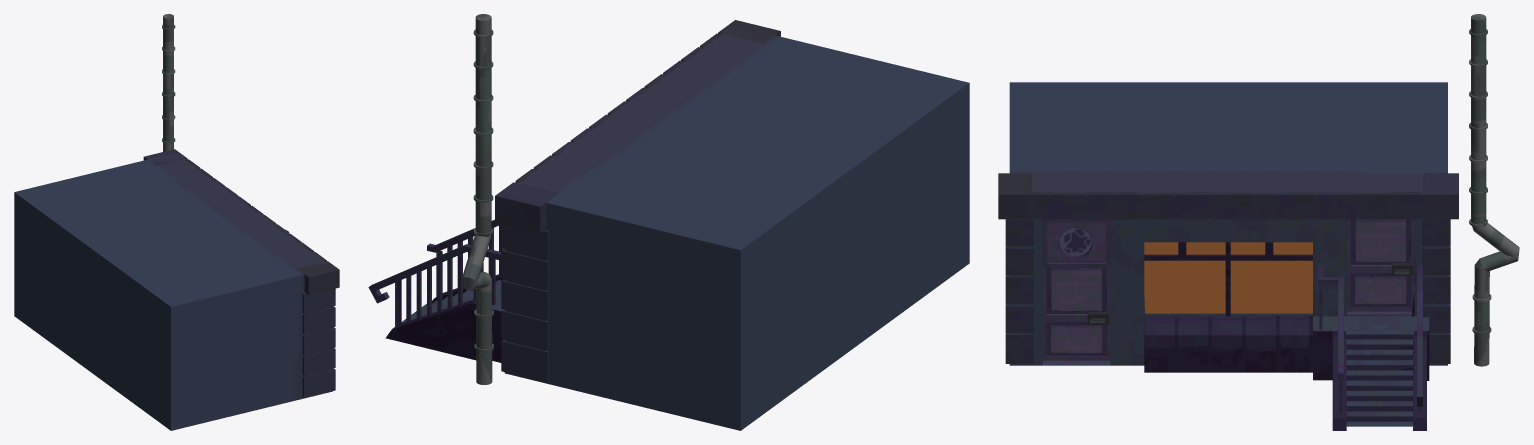
Rendered from Batiment1_rdc 1.fbx.
3 views of the same model, side by side, from view 1: azimuth 30°, elevation 25°; view 2: azimuth 150°, elevation 25°; view 3: azimuth 270°, elevation 25° (orthographic). The views are drawn at different scales.
Parts seen in each view (by area): view 1: Cube.016; view 2: Cube.016; view 3: Cube.016.
Boxes of the visible parts, x1,y1,x2,y2 form: Cube.016: [14, 14, 339, 430]; Cube.016: [368, 14, 969, 430]; Cube.016: [998, 14, 1519, 430].
Size of the model in its own units: 669 by 616 by 819.
